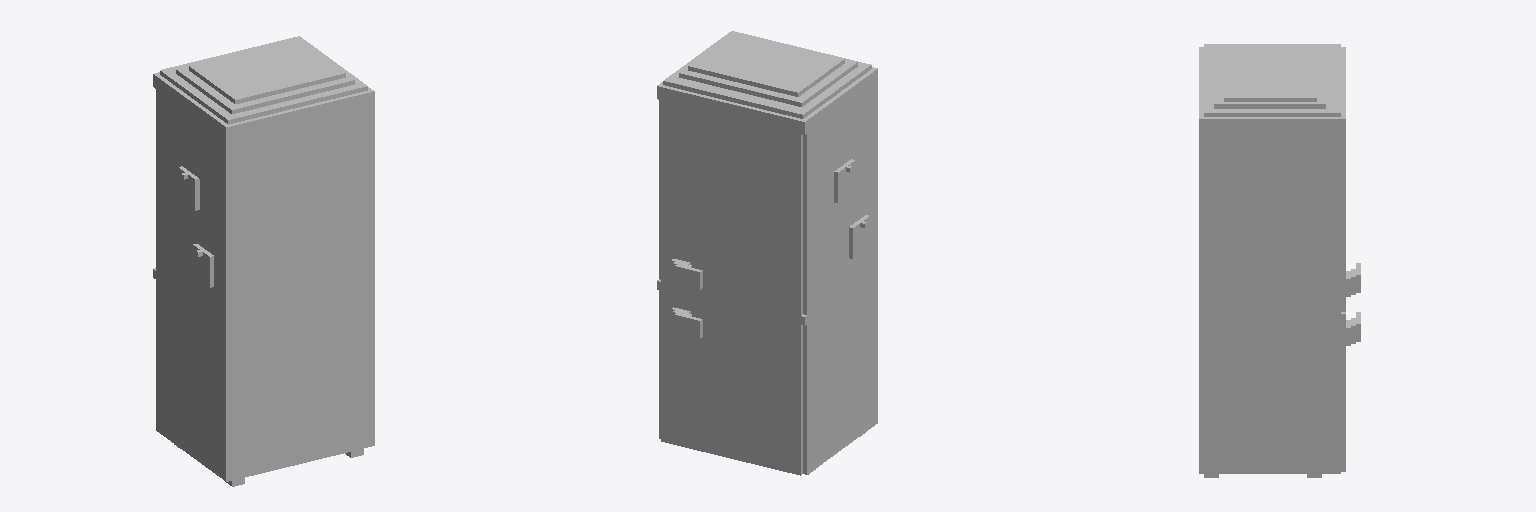
Rendered from lil' firdge.obj.
The picture shows the model from 3 angles: view 1: azimuth 30°, elevation 25°; view 2: azimuth 150°, elevation 25°; view 3: azimuth 270°, elevation 25°; orthographic projection.
Visible parts, largest first — view 1: lil' firdge; view 2: lil' firdge; view 3: lil' firdge.
Boxes of the visible parts, x1,y1,x2,y2 form: lil' firdge: [153, 36, 374, 486]; lil' firdge: [657, 31, 877, 475]; lil' firdge: [1199, 44, 1360, 477].
Size of the model in its own units: 37 by 85 by 33.